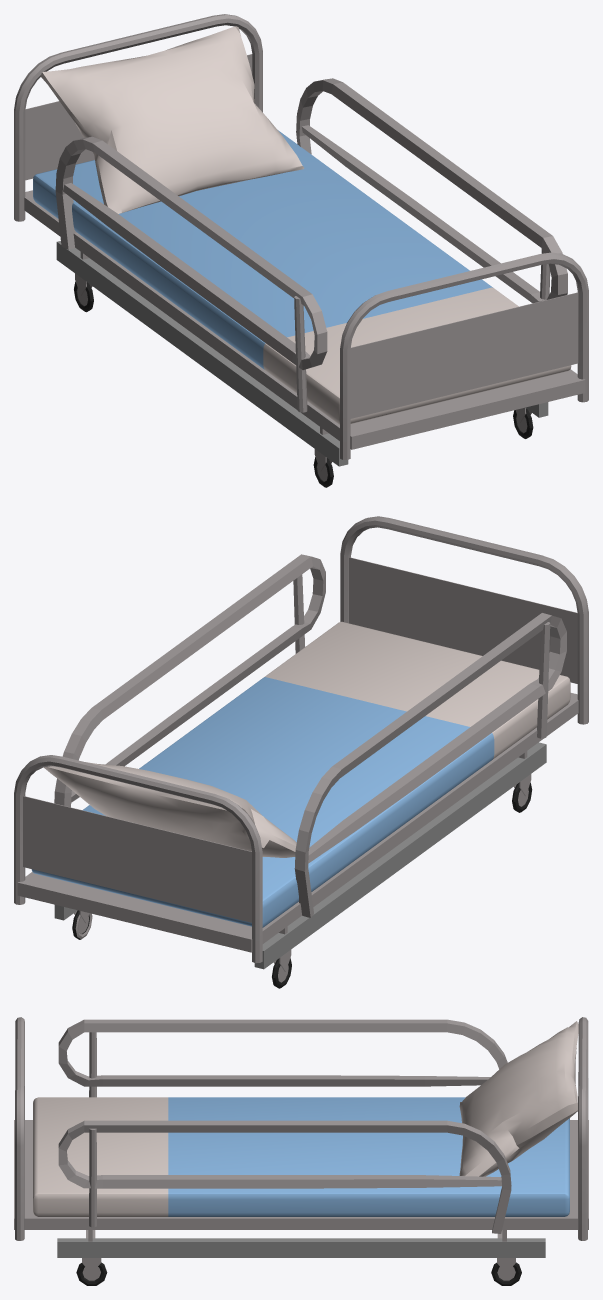
The model's file is Hospital bed.fbx.
3 views of the same model, one above another, from view 1: azimuth 30°, elevation 25°; view 2: azimuth 150°, elevation 25°; view 3: azimuth 270°, elevation 25° (orthographic). The views are drawn at different scales.
Visible parts, largest first — view 1: Plane_Material.008_0; view 2: Plane_Material.008_0; view 3: Plane_Material.008_0.
Boxes of the visible parts, x1,y1,x2,y2 form: Plane_Material.008_0: (14, 14, 588, 487); Plane_Material.008_0: (14, 516, 588, 988); Plane_Material.008_0: (14, 1017, 588, 1285).
Bounding box in the file's own units: 168 × 137 × 378.
